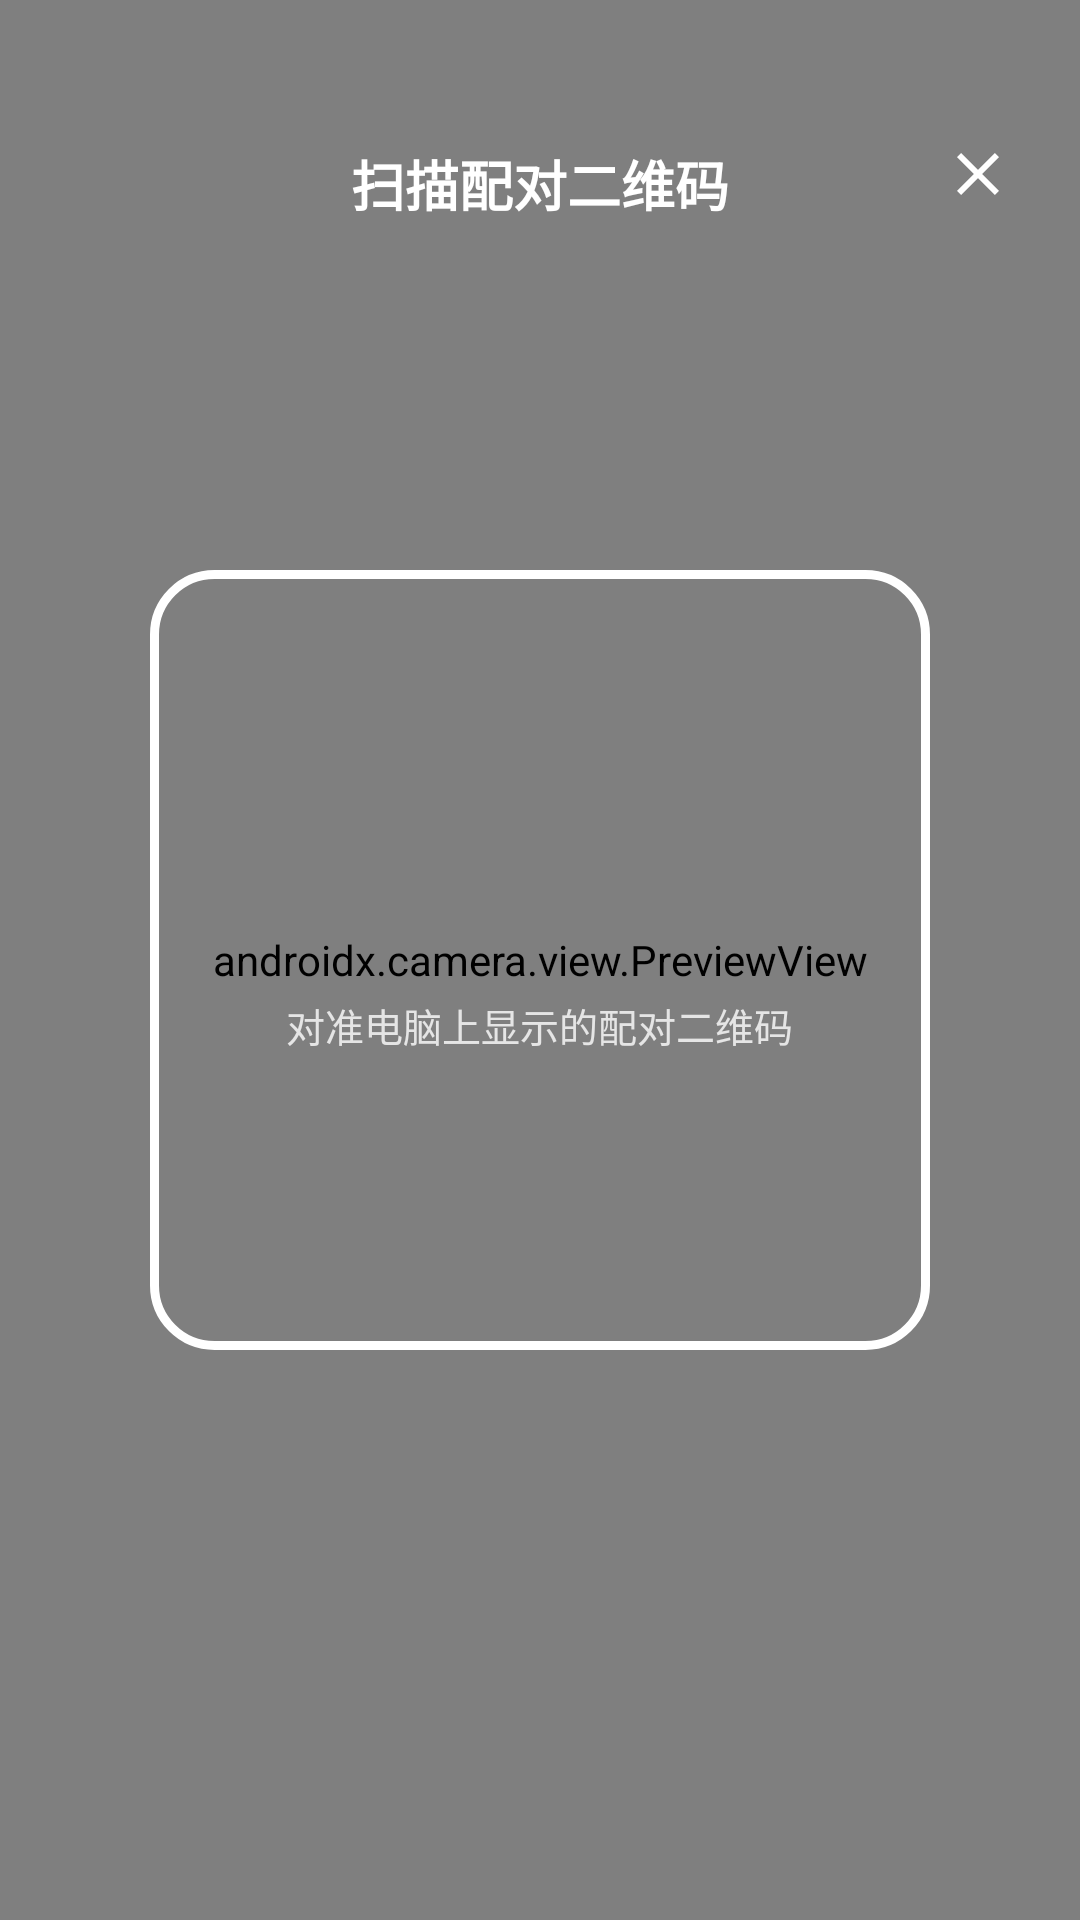

Icons on this 1080px x 1920px Android screen, each with the point to tap as point (x, y):
关闭: point (978, 174)
